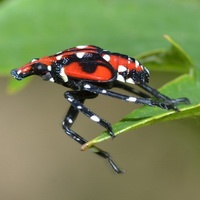insect: (11, 35, 199, 172), (82, 93, 148, 128), (70, 110, 107, 142)
